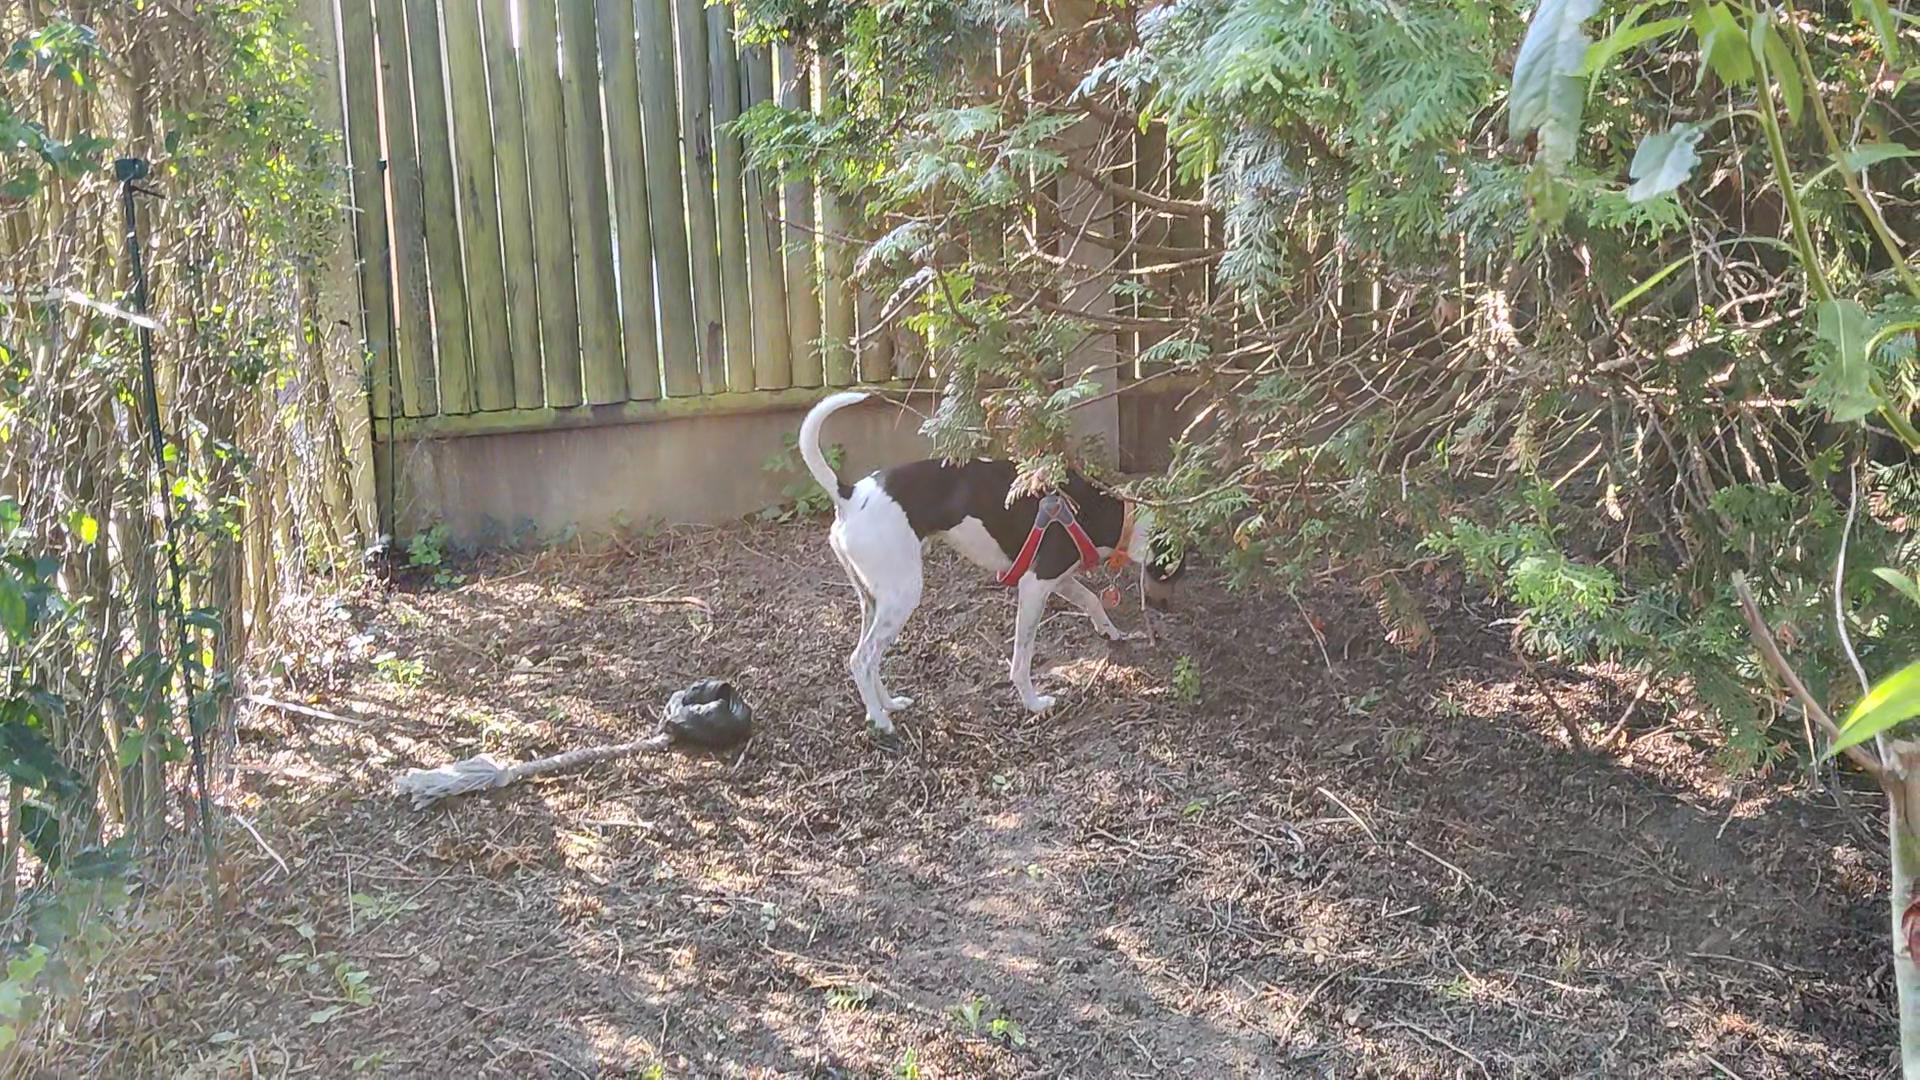Dog: (774, 369, 1209, 754)
